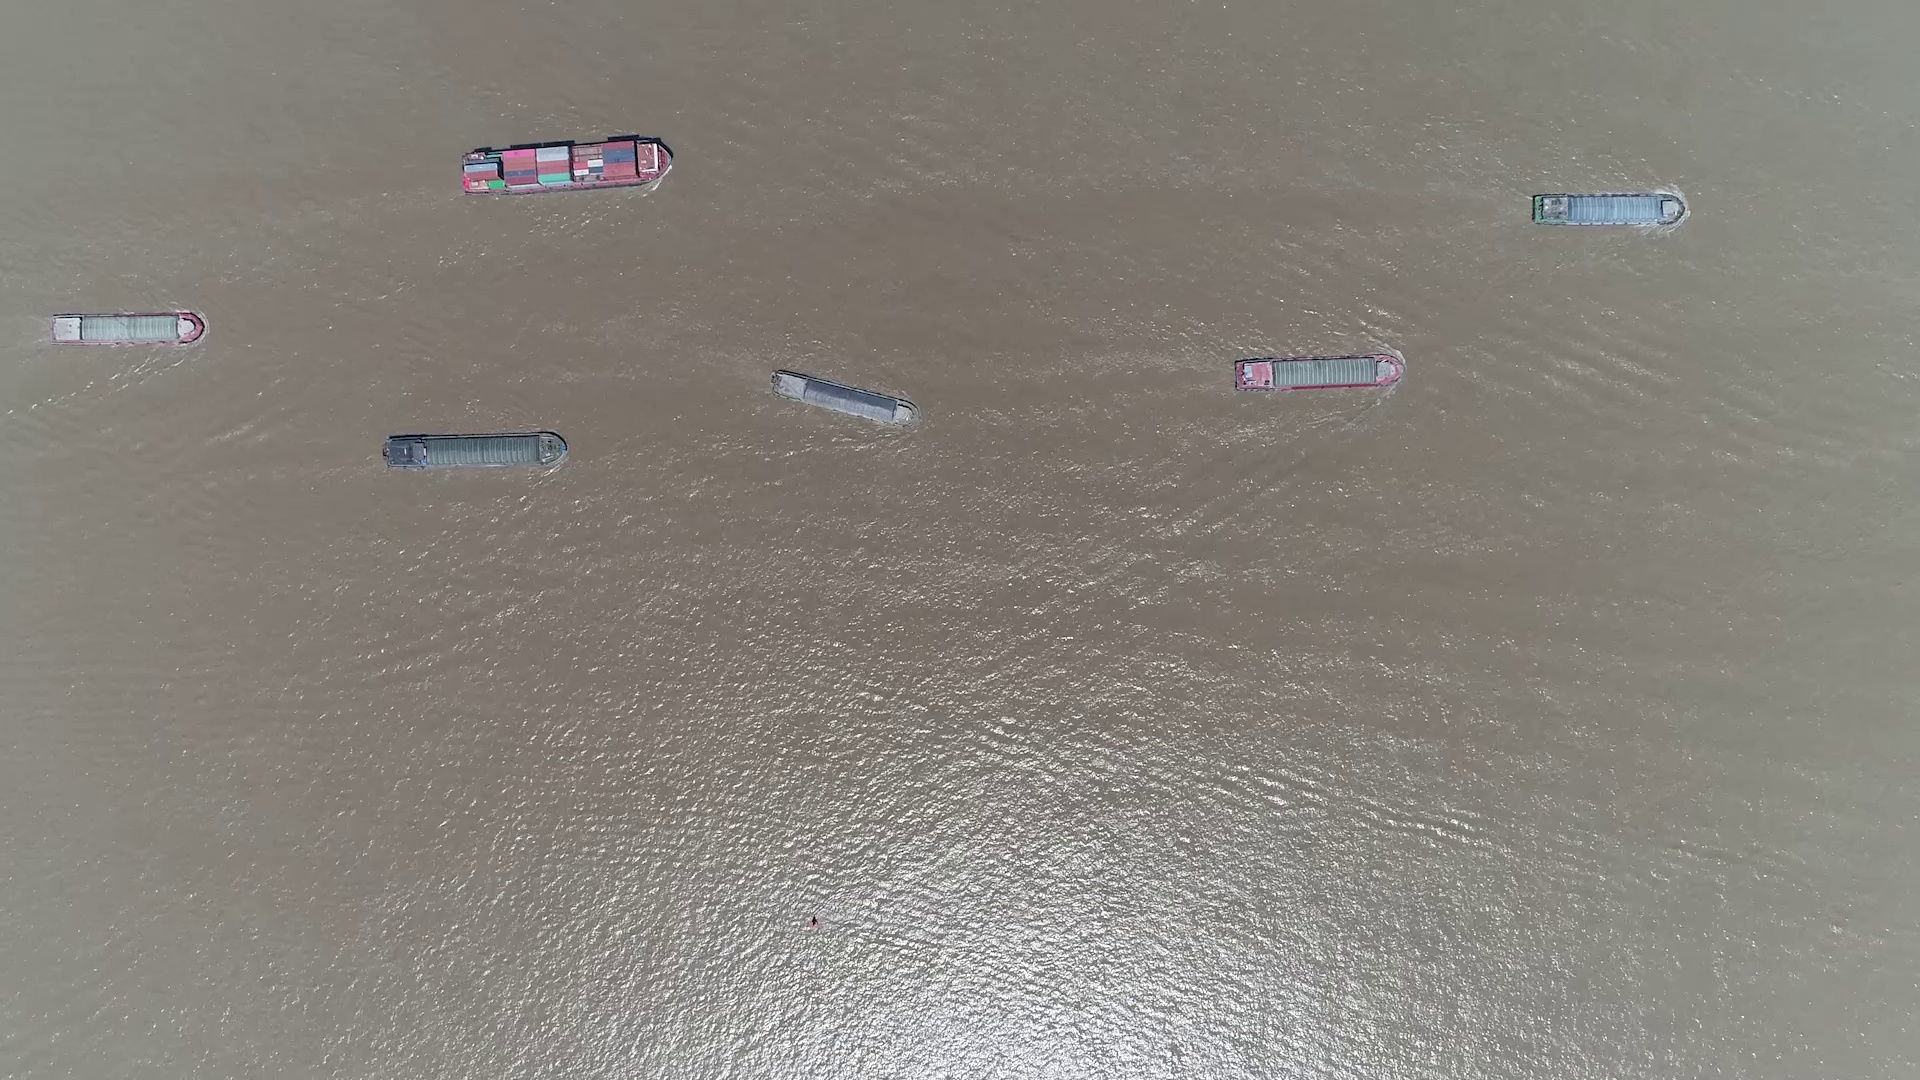ship: (460, 138, 673, 195), (767, 368, 916, 427), (384, 433, 566, 469), (1234, 355, 1403, 392), (47, 313, 204, 345), (1531, 193, 1684, 225)
